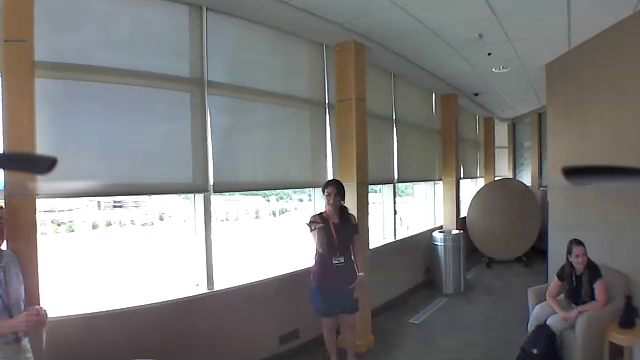land: (304, 218, 329, 236)
